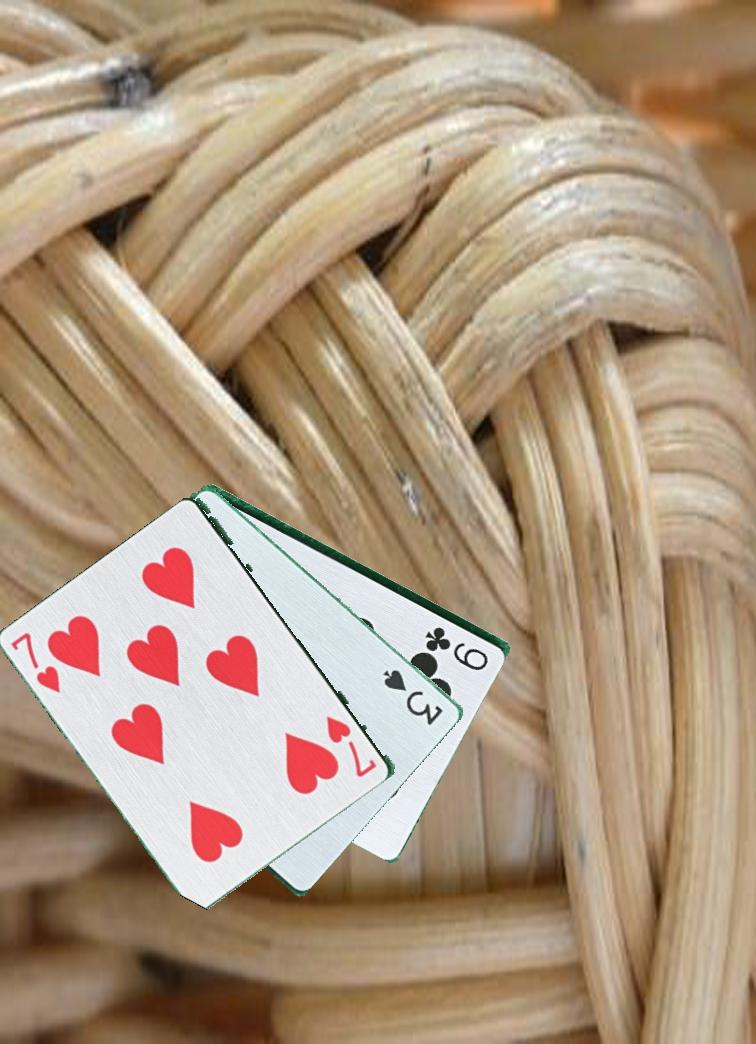3s: (379, 665, 447, 728)
7h: (7, 621, 77, 697), (323, 712, 382, 781)
9c: (422, 622, 492, 671)
